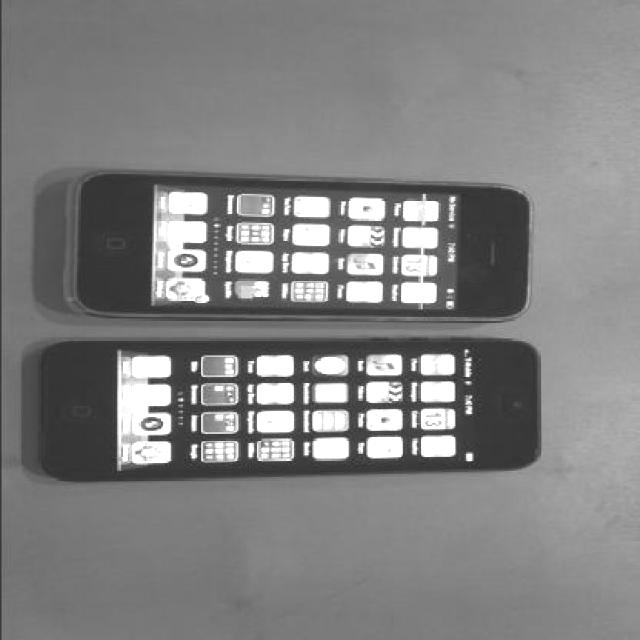fake: (58, 168, 536, 324), (36, 338, 542, 484)
